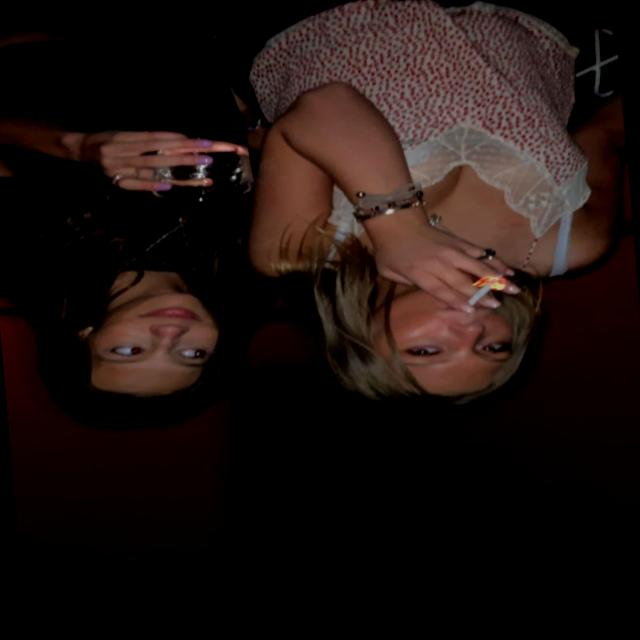cigarette: (451, 260, 505, 318)
